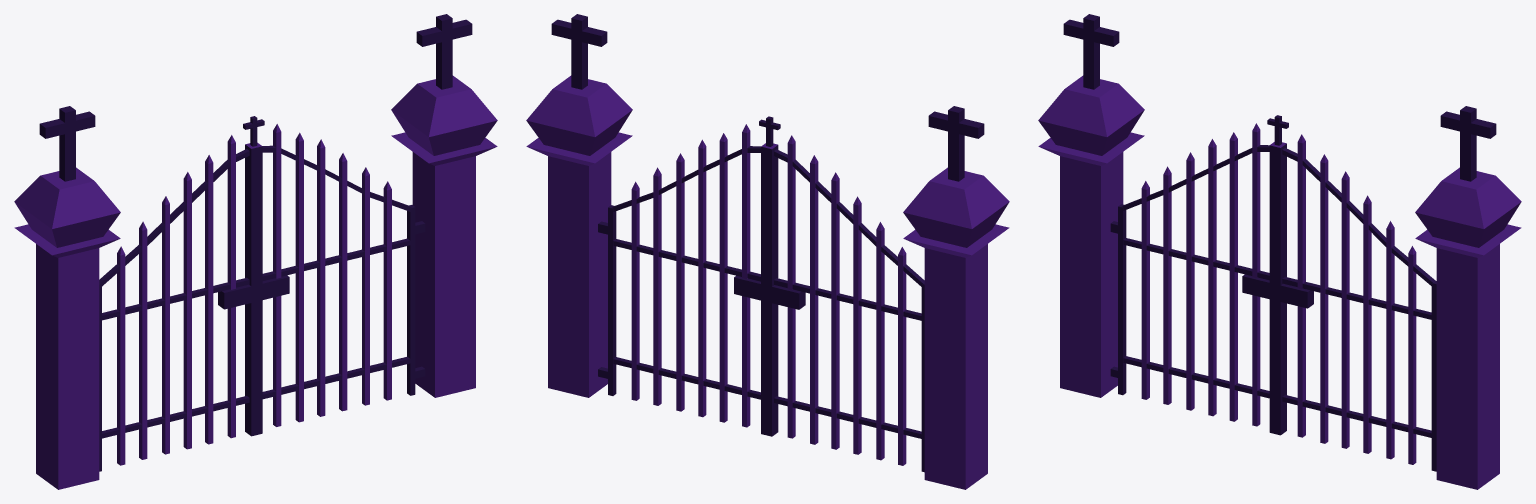
File: portaoGrade.fbx
The picture shows the model from 3 angles, left to right: view 1: azimuth 30°, elevation 25°; view 2: azimuth 150°, elevation 25°; view 3: azimuth 330°, elevation 25°; orthographic projection.
Visible parts, largest first — view 1: CemiterioEntrada; view 2: CemiterioEntrada; view 3: CemiterioEntrada.
Part boxes in pixels (x1,y1,x2,y2): CemiterioEntrada: (14,14,497,489); CemiterioEntrada: (526,14,1009,489); CemiterioEntrada: (1038,14,1521,489).
Bounding box in the file's own units: 1849 × 1462 × 271.
